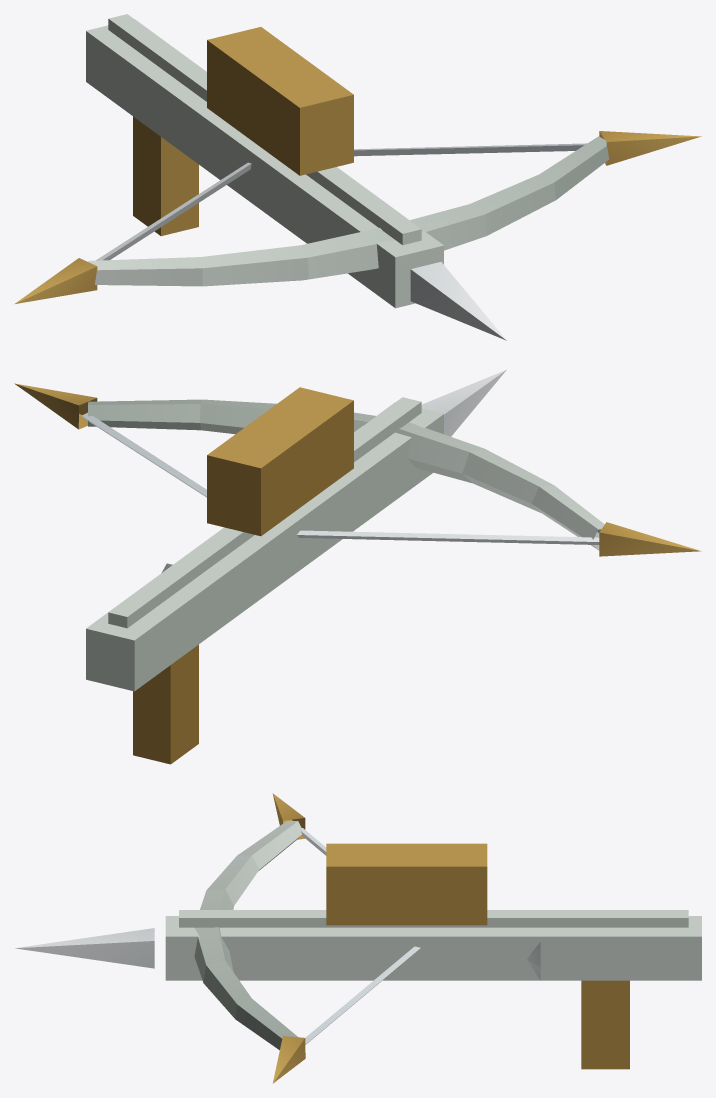
Rendered from ranger_repeater_4.gltf.
3 renders of one model, top to bottom at view 1: azimuth 30°, elevation 25°; view 2: azimuth 150°, elevation 25°; view 3: azimuth 270°, elevation 25°, orthographic. The views are drawn at different scales.
Visible parts, largest first — view 1: ranger_repeater_4; view 2: ranger_repeater_4; view 3: ranger_repeater_4.
Boxes of the visible parts, left/top/right/bottom form: ranger_repeater_4: left=14, top=14, right=701, bottom=340; ranger_repeater_4: left=14, top=369, right=701, bottom=764; ranger_repeater_4: left=15, top=793, right=701, bottom=1083.
Bounding box in the file's own units: 1.27 × 0.42 × 1.27.
1 material, 1 textured.
